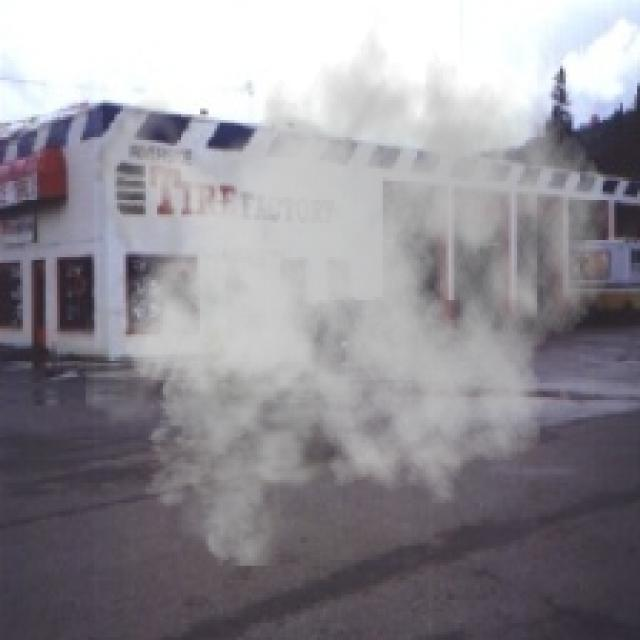Smoke: (86, 6, 612, 566)
